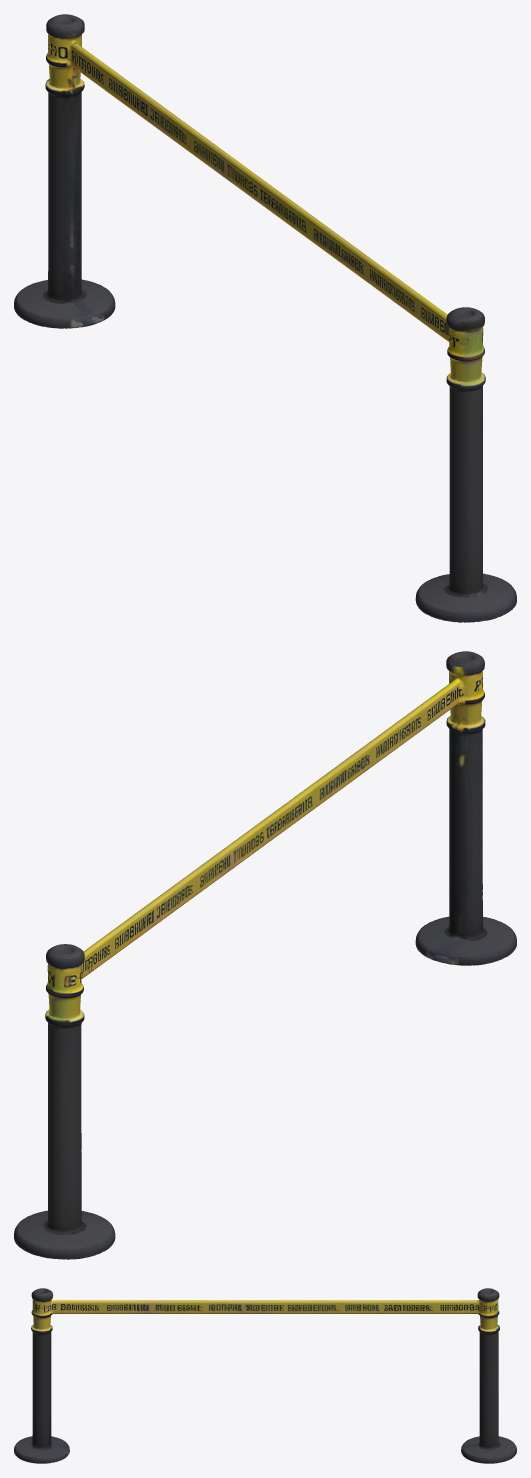
Rendered from hajez.glb.
3 renders of one model, top to bottom at view 1: azimuth 30°, elevation 25°; view 2: azimuth 150°, elevation 25°; view 3: azimuth 270°, elevation 25°, orthographic. The views are drawn at different scales.
Parts seen in each view (by area): view 1: tripo_node_1ea88365-9d04-419a-b5a4-8df92db8ec7c; view 2: tripo_node_1ea88365-9d04-419a-b5a4-8df92db8ec7c; view 3: tripo_node_1ea88365-9d04-419a-b5a4-8df92db8ec7c.
Part boxes in pixels (<box>): tripo_node_1ea88365-9d04-419a-b5a4-8df92db8ec7c: <box>14,14,516,622</box>; tripo_node_1ea88365-9d04-419a-b5a4-8df92db8ec7c: <box>14,651,516,1259</box>; tripo_node_1ea88365-9d04-419a-b5a4-8df92db8ec7c: <box>14,1288,516,1463</box>.
Size of the model in its own units: 0.3183 by 1 by 2.83.
Materials: 1 (1 with a texture image).
